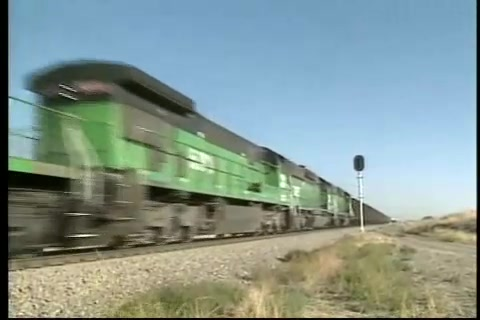train: (10, 60, 393, 259)
